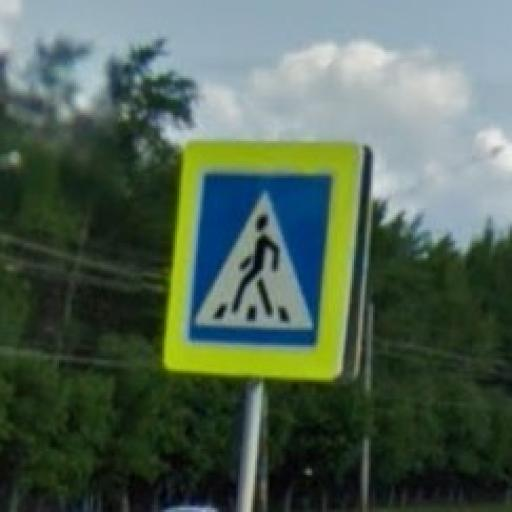traffic_sign: (159, 136, 372, 387)
